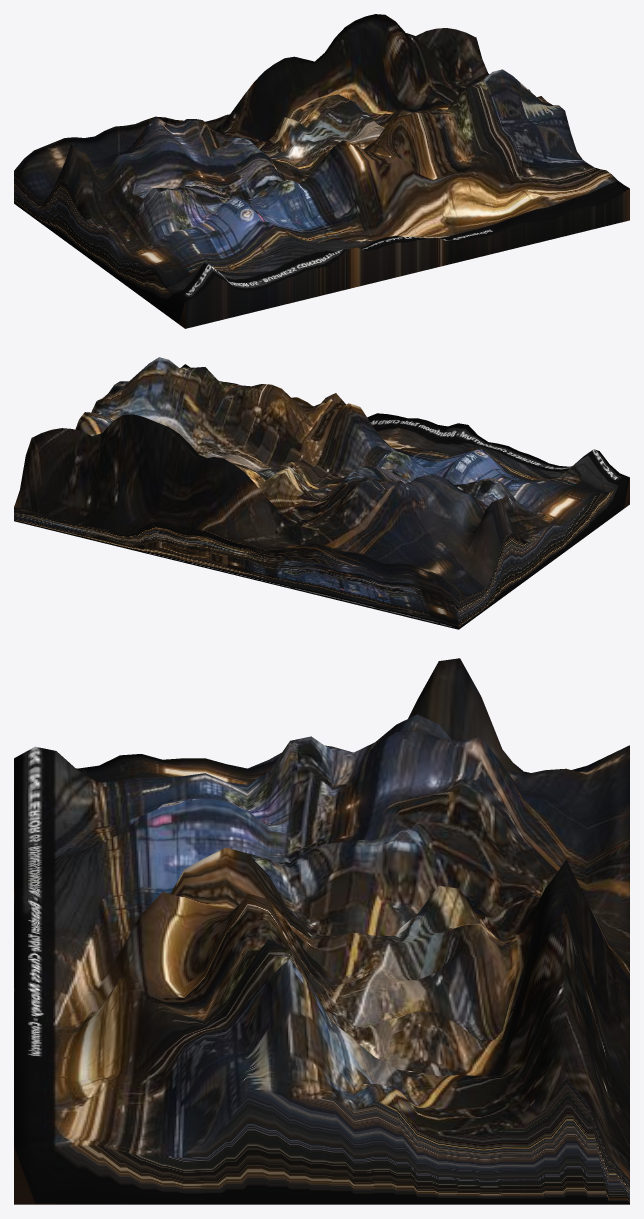
The model's file is FACTION_INT_05_Business_Consortium.glb.
The picture shows the model from 3 angles, top to bottom: view 1: azimuth 30°, elevation 25°; view 2: azimuth 150°, elevation 25°; view 3: azimuth 270°, elevation 25°; orthographic projection. The views are drawn at different scales.
Visible parts, largest first — view 1: FACTION_INT_05_Business_Consortium; view 2: FACTION_INT_05_Business_Consortium; view 3: FACTION_INT_05_Business_Consortium.
Part boxes in pixels (x1,y1,x2,y2): FACTION_INT_05_Business_Consortium: (14,14,629,328); FACTION_INT_05_Business_Consortium: (14,357,629,629); FACTION_INT_05_Business_Consortium: (14,658,629,1204).
Bounding box in the file's own units: 2 × 0.51 × 1.33.
Materials: 1 (1 with a texture image).
